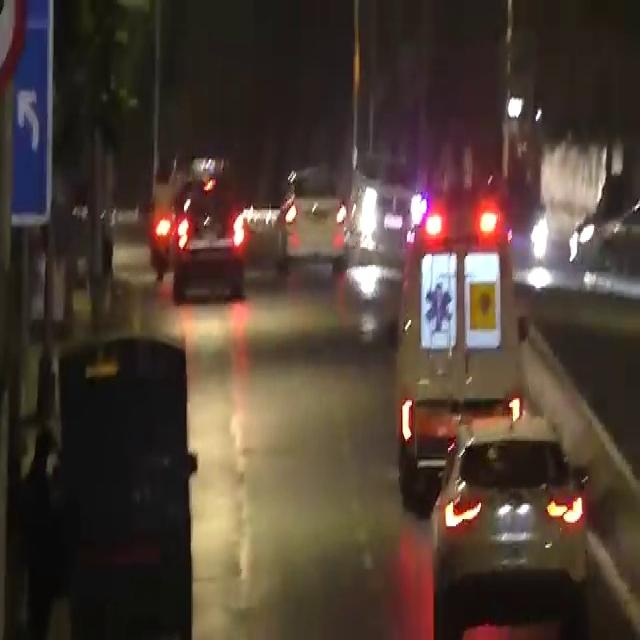ambulance: (392, 171, 518, 431)
